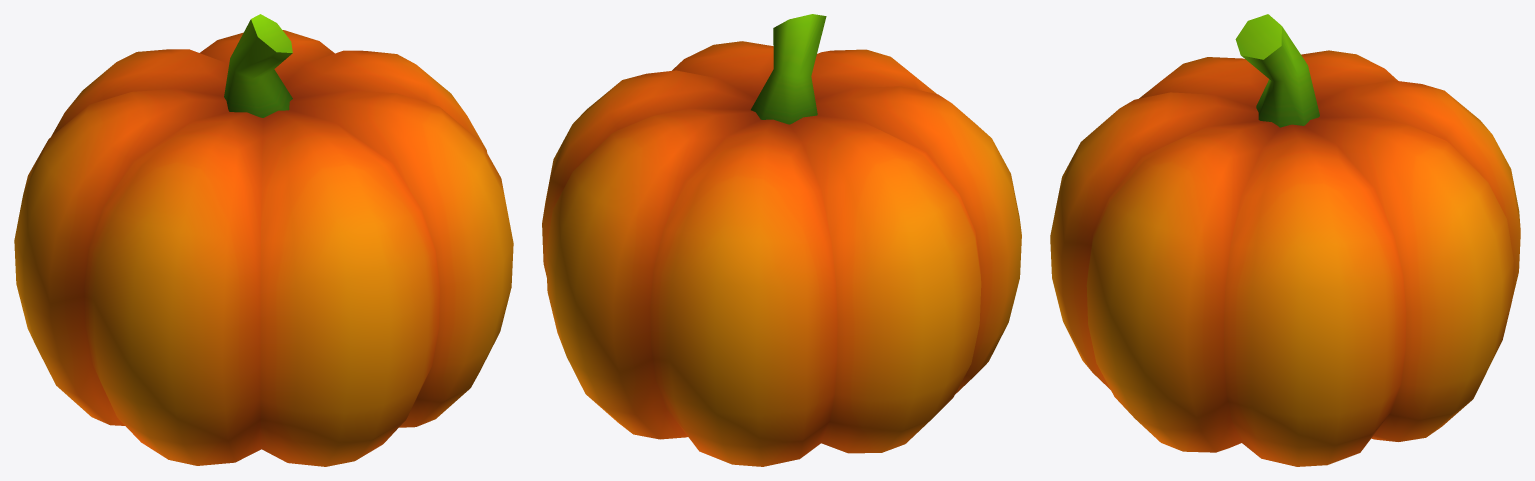
The model's file is pumpkin.fbx.
The picture shows the model from 3 angles, left to right: view 1: azimuth 30°, elevation 25°; view 2: azimuth 150°, elevation 25°; view 3: azimuth 270°, elevation 25°; orthographic projection. The views are drawn at different scales.
Parts seen in each view (by area): view 1: pumpkin; view 2: pumpkin; view 3: pumpkin.
Boxes of the visible parts, x1=… form: pumpkin: x1=14, y1=14, x2=513, y2=466; pumpkin: x1=542, y1=14, x2=1021, y2=466; pumpkin: x1=1050, y1=14, x2=1520, y2=466.
Size of the model in its own units: 33.06 by 29.53 by 33.08.
